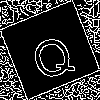Q: (25, 25, 78, 85)
